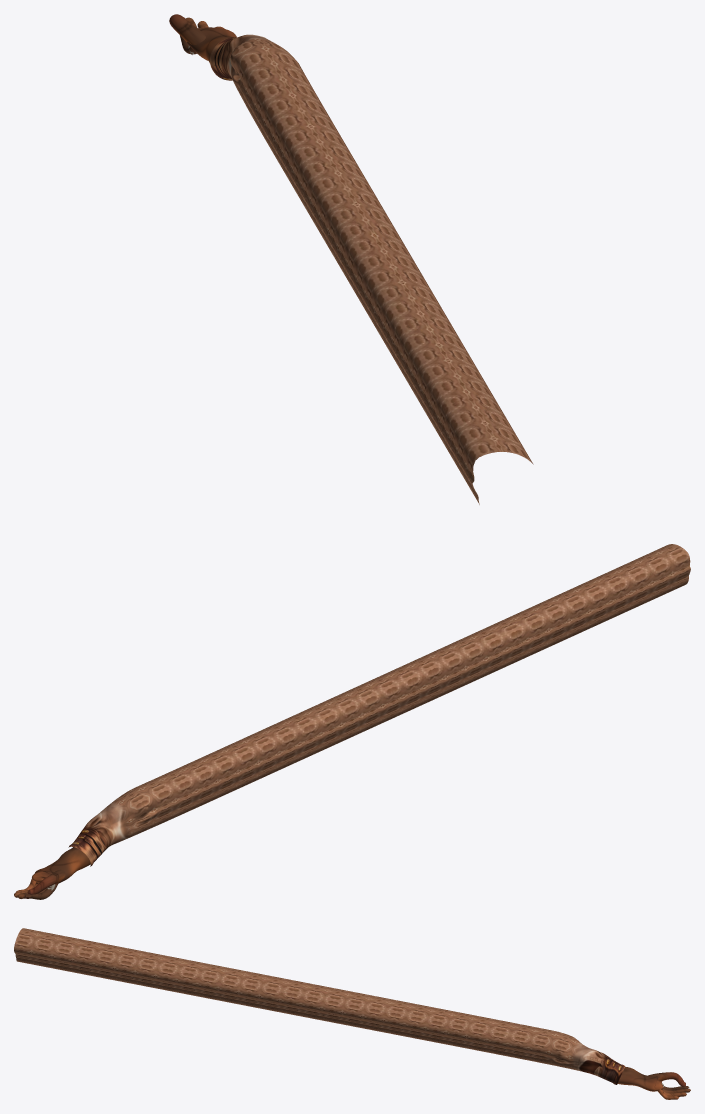
The model's file is rogue-grip-v5.glb.
3 renders of one model, top to bottom at view 1: azimuth 30°, elevation 25°; view 2: azimuth 150°, elevation 25°; view 3: azimuth 270°, elevation 25°, orthographic. The views are drawn at different scales.
Visible parts, largest first — view 1: rogue-card-grip; view 2: rogue-card-grip; view 3: rogue-card-grip.
Part boxes in pixels (x1,y1,x2,y2): rogue-card-grip: [169, 14, 533, 504]; rogue-card-grip: [14, 544, 690, 899]; rogue-card-grip: [14, 928, 690, 1099].
Bounding box in the file's own units: 0.9297 × 0.3527 × 2.73.
3 materials, 2 textured.
